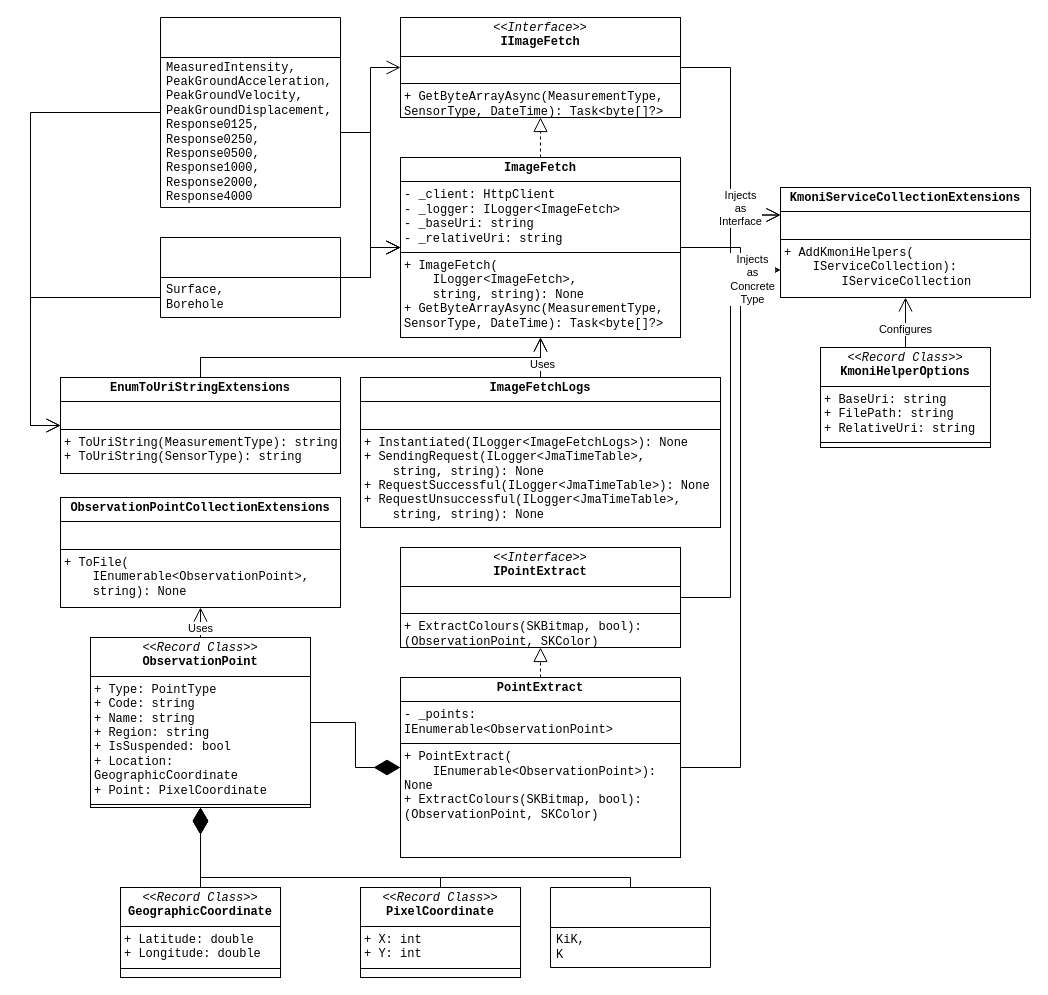
This 1048x995 diagram has some shape labels left out. Each missing label, with the box of its shape:
<<Enumeration>> MeasurementType: (160, 16, 340, 208)
<<Enumeration>> PointType: (550, 886, 710, 968)
<<Enumeration>> SensorType: (160, 236, 340, 318)
